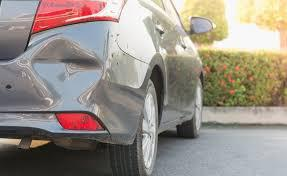rear-bumper-dent: (0, 31, 146, 151)
